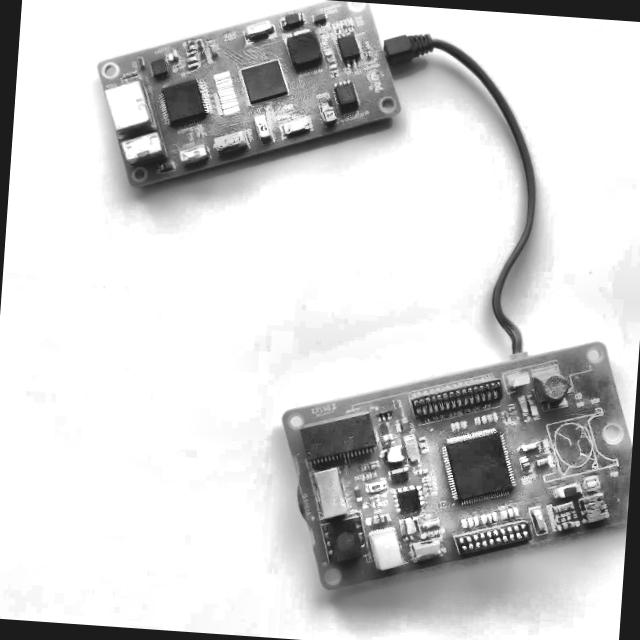Cable: (370, 11, 570, 354)
PCB: (271, 314, 639, 618), (82, 0, 410, 215)
